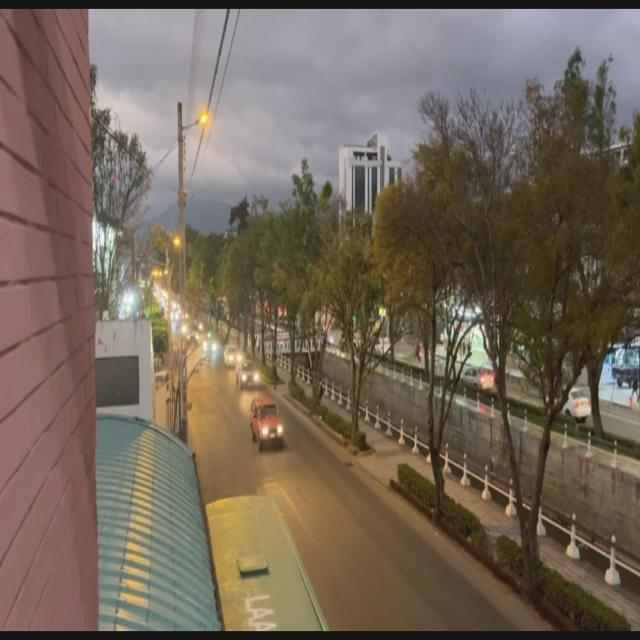CMT: (238, 362, 258, 390)
SUV: (254, 400, 283, 450)
